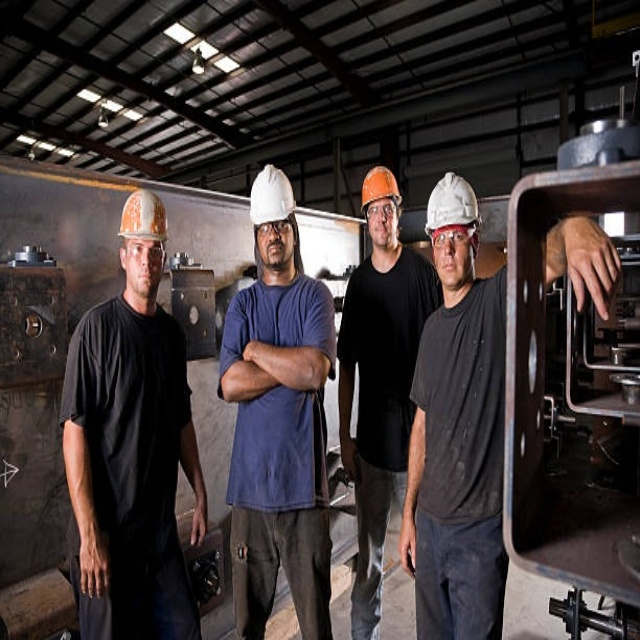Gafas: (125, 243, 166, 262), (433, 229, 472, 248), (257, 219, 291, 238), (366, 203, 398, 219)
Sin_guantes: (548, 214, 622, 320), (76, 525, 113, 605), (397, 507, 419, 579), (188, 496, 210, 552)
Sin_mascara: (438, 254, 463, 282), (134, 267, 157, 296), (265, 240, 288, 267), (371, 221, 390, 243)
